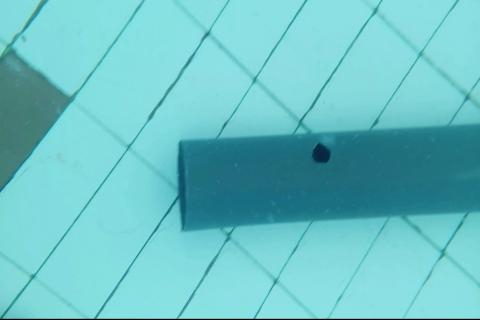kebocoran: (311, 142, 331, 165)
